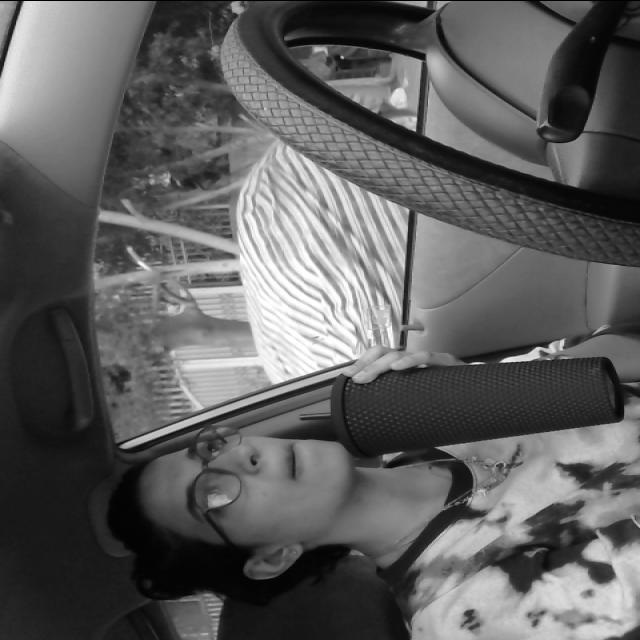drinking: (305, 303, 613, 479)
